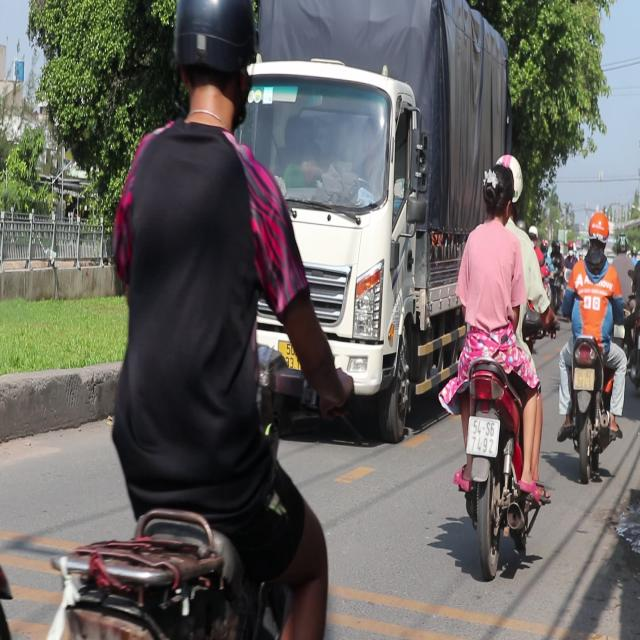helmet: (170, 0, 257, 135), (495, 153, 526, 212), (586, 210, 610, 254)
licenseplate: (28, 0, 349, 629), (436, 153, 555, 581), (555, 208, 626, 480), (626, 224, 640, 396)
motorcyclist: (479, 156, 516, 224)
nohelmet: (466, 417, 500, 458), (573, 367, 594, 389)
